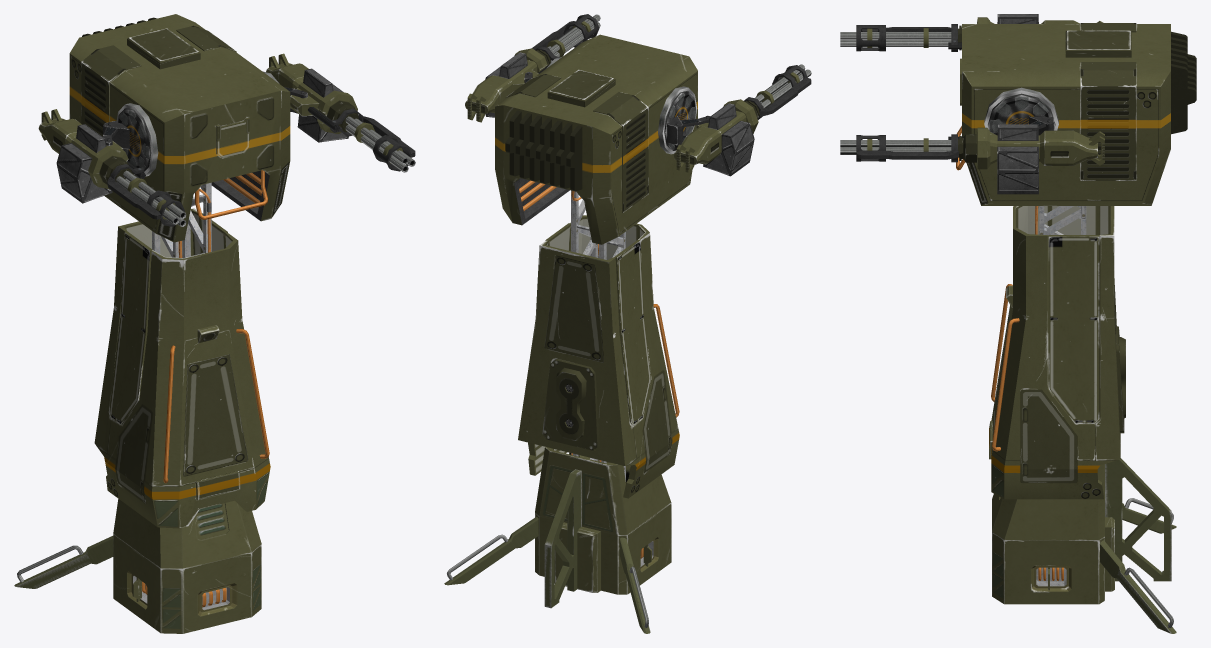
File: turret_tower_01.fbx
3 renders of one model, left to right at view 1: azimuth 30°, elevation 25°; view 2: azimuth 150°, elevation 25°; view 3: azimuth 270°, elevation 25°, orthographic. The views are drawn at different scales.
Parts seen in each view (by area): view 1: body, head, tower_base, tower_body_door_right, weapon_body (×2), decor (×3), boxes (×2), tower_head_door_right, barrels (×2), decor3, tower_leg, body_frame (+5 smaller); view 2: body, head, tower_base, decor3, tower_leg, weapon_body (×2), tower_body_door_right, tower_body_door_rear, tower_head_door_right, boxes (×2), decor (×2), barrels (×2) (+4 smaller); view 3: body, head, tower_base, tower_body_door_left, tower_head_door_left, tower_leg, decor3, weapon_body, decor (×2), boxes, barrels (×2), holder (+4 smaller).
Part boxes in pixels (x1,y1,x2,y2): body: (94, 208, 270, 528); head: (69, 14, 290, 242); tower_base: (113, 499, 261, 633); tower_body_door_right: (109, 231, 152, 424); weapon_body (×2): (38, 53, 358, 189); decor (×3): (103, 87, 415, 226); boxes (×2): (56, 68, 348, 203); tower_head_door_right: (81, 45, 141, 136); barrels (×2): (116, 116, 415, 226); decor3: (82, 17, 200, 69); tower_leg: (14, 536, 113, 588); body_frame: (152, 182, 211, 258); body: (518, 215, 679, 498); head: (495, 34, 697, 244); tower_base: (535, 447, 671, 594); decor3: (505, 69, 615, 191); tower_leg: (444, 469, 650, 633); weapon_body (×2): (465, 48, 759, 173); tower_body_door_right: (614, 240, 651, 425); tower_body_door_rear: (542, 359, 599, 450); tower_head_door_right: (593, 92, 648, 212); boxes (×2): (485, 52, 754, 176); decor (×2): (524, 14, 811, 145); barrels (×2): (546, 14, 811, 108); body: (991, 206, 1120, 499); head: (962, 24, 1170, 205); tower_base: (992, 464, 1114, 604); tower_body_door_left: (1048, 235, 1099, 423); tower_head_door_left: (1080, 62, 1136, 180); tower_leg: (1100, 458, 1176, 633); decor3: (1065, 30, 1196, 134); weapon_body: (958, 127, 1104, 169); decor (×2): (856, 24, 1054, 162); boxes: (997, 124, 1038, 194); barrels (×2): (840, 28, 951, 154); holder: (988, 93, 1055, 135).
Bounding box in the file's own units: 8.53 × 15.97 × 9.55.
